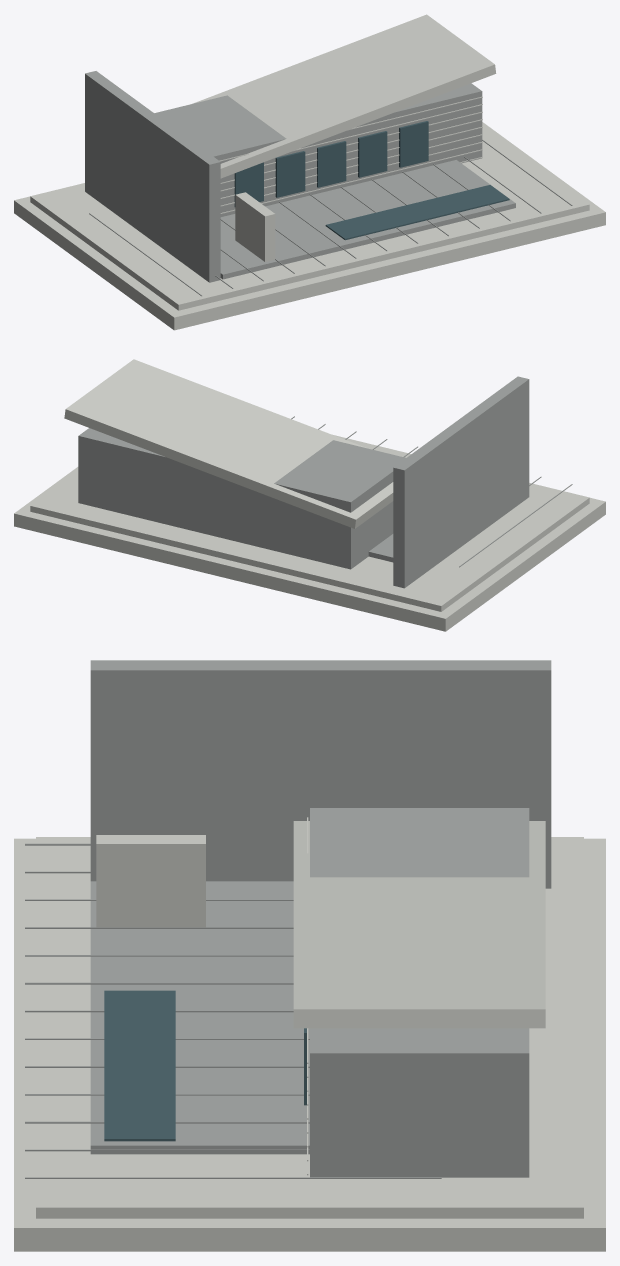
Rendered from nanjing.glb.
3 renders of one model, top to bottom at view 1: azimuth 30°, elevation 25°; view 2: azimuth 150°, elevation 25°; view 3: azimuth 270°, elevation 25°, orthographic. The views are drawn at different scales.
Parts seen in each view (by area): view 1: granite memorial plaza, sloping granite roof, tall remembrance wall, granite exhibition hall, limestone foundation, sunken memorial forecourt, quiet reflecting water, memorial stone slab, dark hall glazing.001, dark hall glazing.004, dark hall glazing.002, dark hall glazing.003 (+1 smaller); view 2: granite exhibition hall, sloping granite roof, tall remembrance wall, granite memorial plaza, limestone foundation, sunken memorial forecourt; view 3: tall remembrance wall, granite memorial plaza, granite exhibition hall, sloping granite roof, sunken memorial forecourt, limestone foundation, quiet reflecting water, memorial stone slab, memorial paving joints.011, memorial paving joints.012, memorial paving joints.005.
Part boxes in pixels (x1,y1,x2,y2): granite memorial plaza: [30, 126, 589, 310]; sloping granite roof: [192, 14, 496, 178]; tall remembrance wall: [85, 71, 220, 282]; granite exhibition hall: [154, 83, 482, 216]; limestone foundation: [14, 122, 605, 330]; sunken memorial forecourt: [220, 160, 515, 279]; quiet reflecting water: [325, 185, 509, 240]; memorial stone slab: [235, 192, 275, 261]; dark hall glazing.001: [275, 151, 305, 197]; dark hall glazing.004: [399, 121, 428, 167]; dark hall glazing.002: [317, 141, 346, 187]; dark hall glazing.003: [358, 131, 387, 177]; granite exhibition hall: [78, 428, 405, 569]; sloping granite roof: [64, 359, 393, 528]; tall remembrance wall: [393, 376, 529, 588]; granite memorial plaza: [30, 434, 589, 611]; limestone foundation: [14, 467, 605, 631]; sunken memorial forecourt: [368, 534, 393, 562]; tall remembrance wall: [90, 660, 551, 888]; granite memorial plaza: [36, 837, 583, 1218]; granite exhibition hall: [310, 808, 529, 1177]; sloping granite roof: [293, 821, 545, 1028]; sunken memorial forecourt: [90, 881, 309, 1154]; limestone foundation: [14, 838, 605, 1251]; quiet reflecting water: [104, 990, 175, 1141]; memorial stone slab: [96, 835, 205, 927]; memorial paving joints.011: [25, 1149, 309, 1151]; memorial paving joints.012: [25, 1177, 441, 1178]; memorial paving joints.005: [25, 982, 293, 984].
Size of the model in its own units: 8.4 by 2.54 by 5.4.
